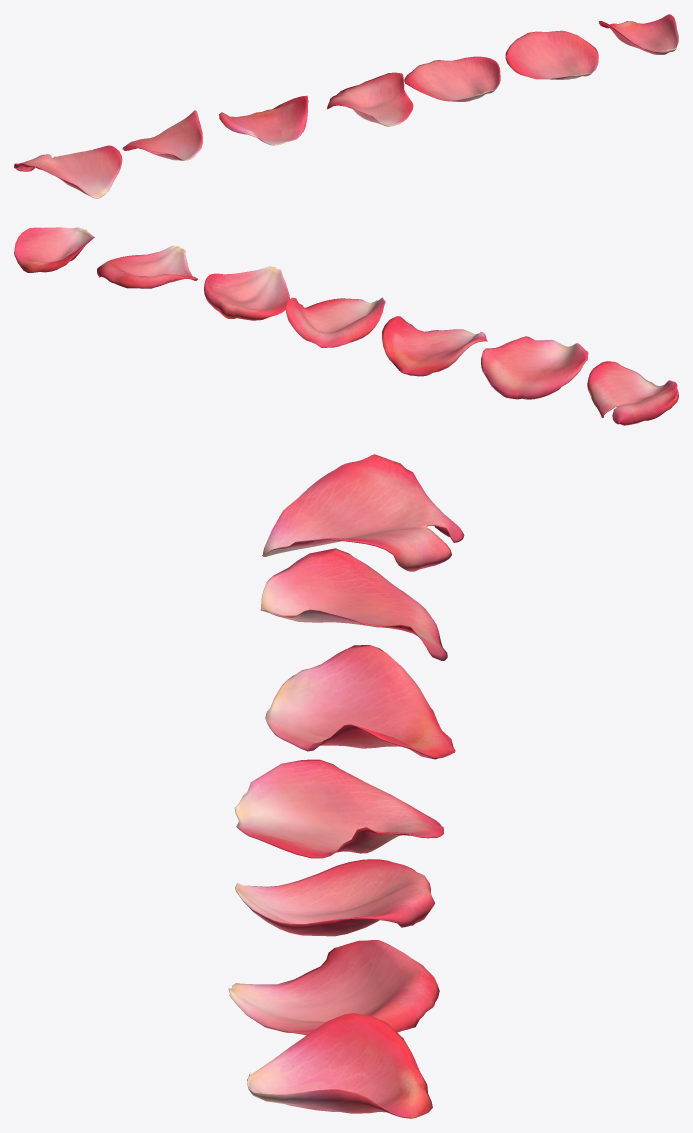
The model's file is pink_rose_petals.glb.
3 views of the same model, one above another, from view 1: azimuth 30°, elevation 25°; view 2: azimuth 150°, elevation 25°; view 3: azimuth 270°, elevation 25° (orthographic). The views are drawn at different scales.
Parts seen in each view (by area): view 1: OBJ_Petals_0; view 2: OBJ_Petals_0; view 3: OBJ_Petals_0.
Part boxes in pixels (x1=…): OBJ_Petals_0: x1=14, y1=14, x2=678, y2=198; OBJ_Petals_0: x1=14, y1=227, x2=678, y2=425; OBJ_Petals_0: x1=228, y1=454, x2=464, y2=1118.
Size of the model in its own units: 0.3785 by 0.0179 by 0.0597.
1 material, 1 textured.
